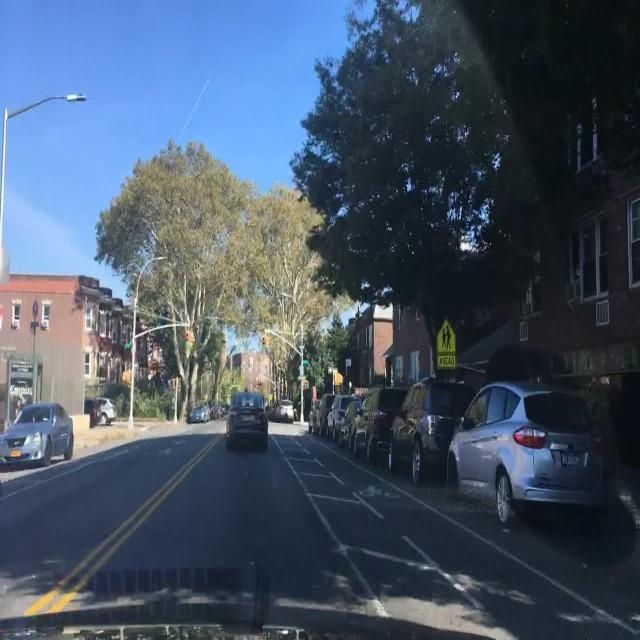normal: (282, 321, 625, 559)
